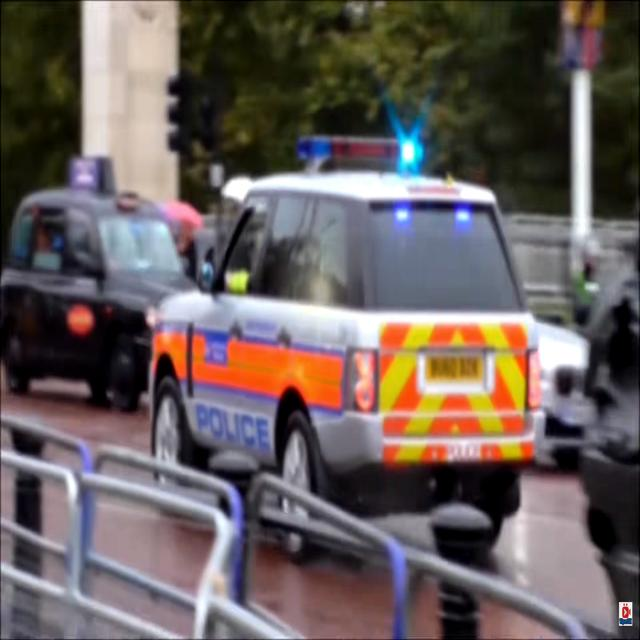emergency-vehicles: (127, 114, 552, 566)
